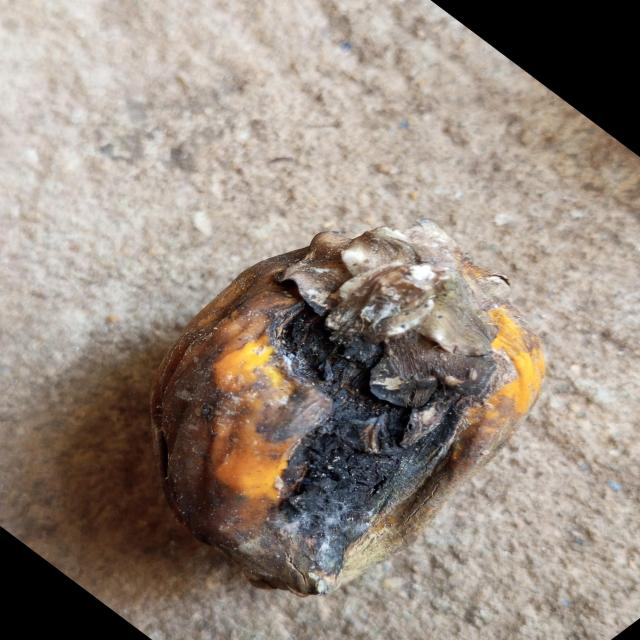damaged: (150, 222, 548, 597)
